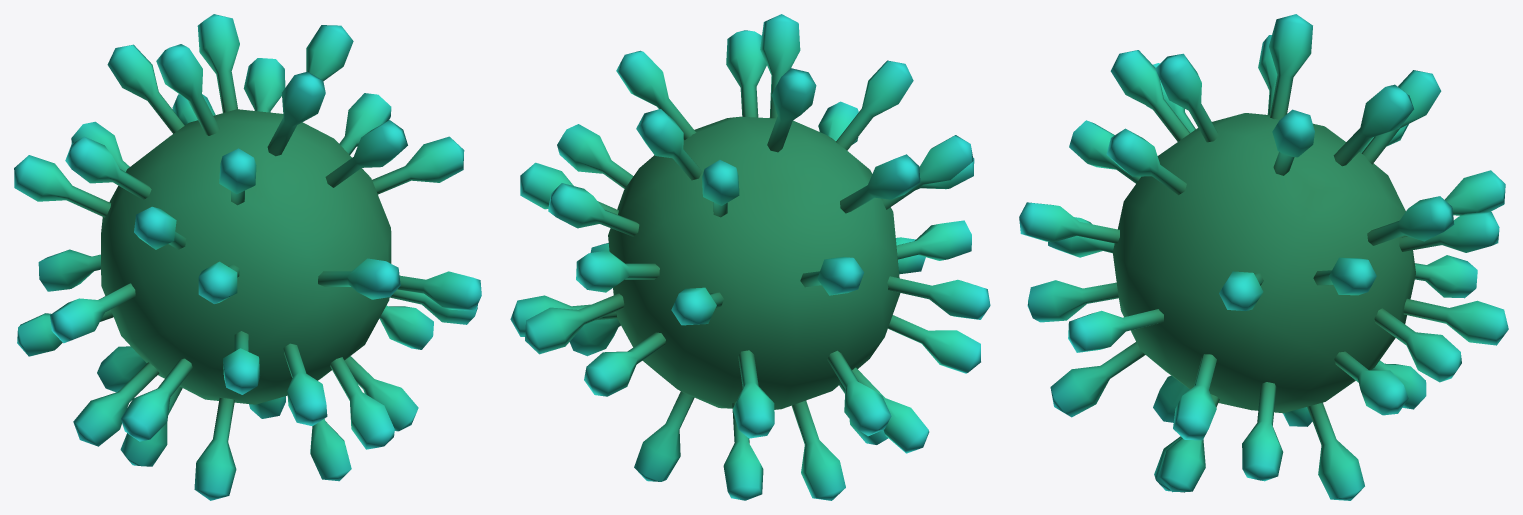
The model's file is microscopic-viruses-coronavirus_v6.glb.
3 views of the same model, side by side, from view 1: azimuth 30°, elevation 25°; view 2: azimuth 150°, elevation 25°; view 3: azimuth 270°, elevation 25° (orthographic). The views are drawn at different scales.
Visible parts, largest first — view 1: Coronavirus_v6; view 2: Coronavirus_v6; view 3: Coronavirus_v6.
Part boxes in pixels (<box>): Coronavirus_v6: <box>14,14,481,500</box>; Coronavirus_v6: <box>510,14,990,500</box>; Coronavirus_v6: <box>1019,14,1508,500</box>.
Size of the model in its own units: 0.12 by 0.114 by 0.1192.
